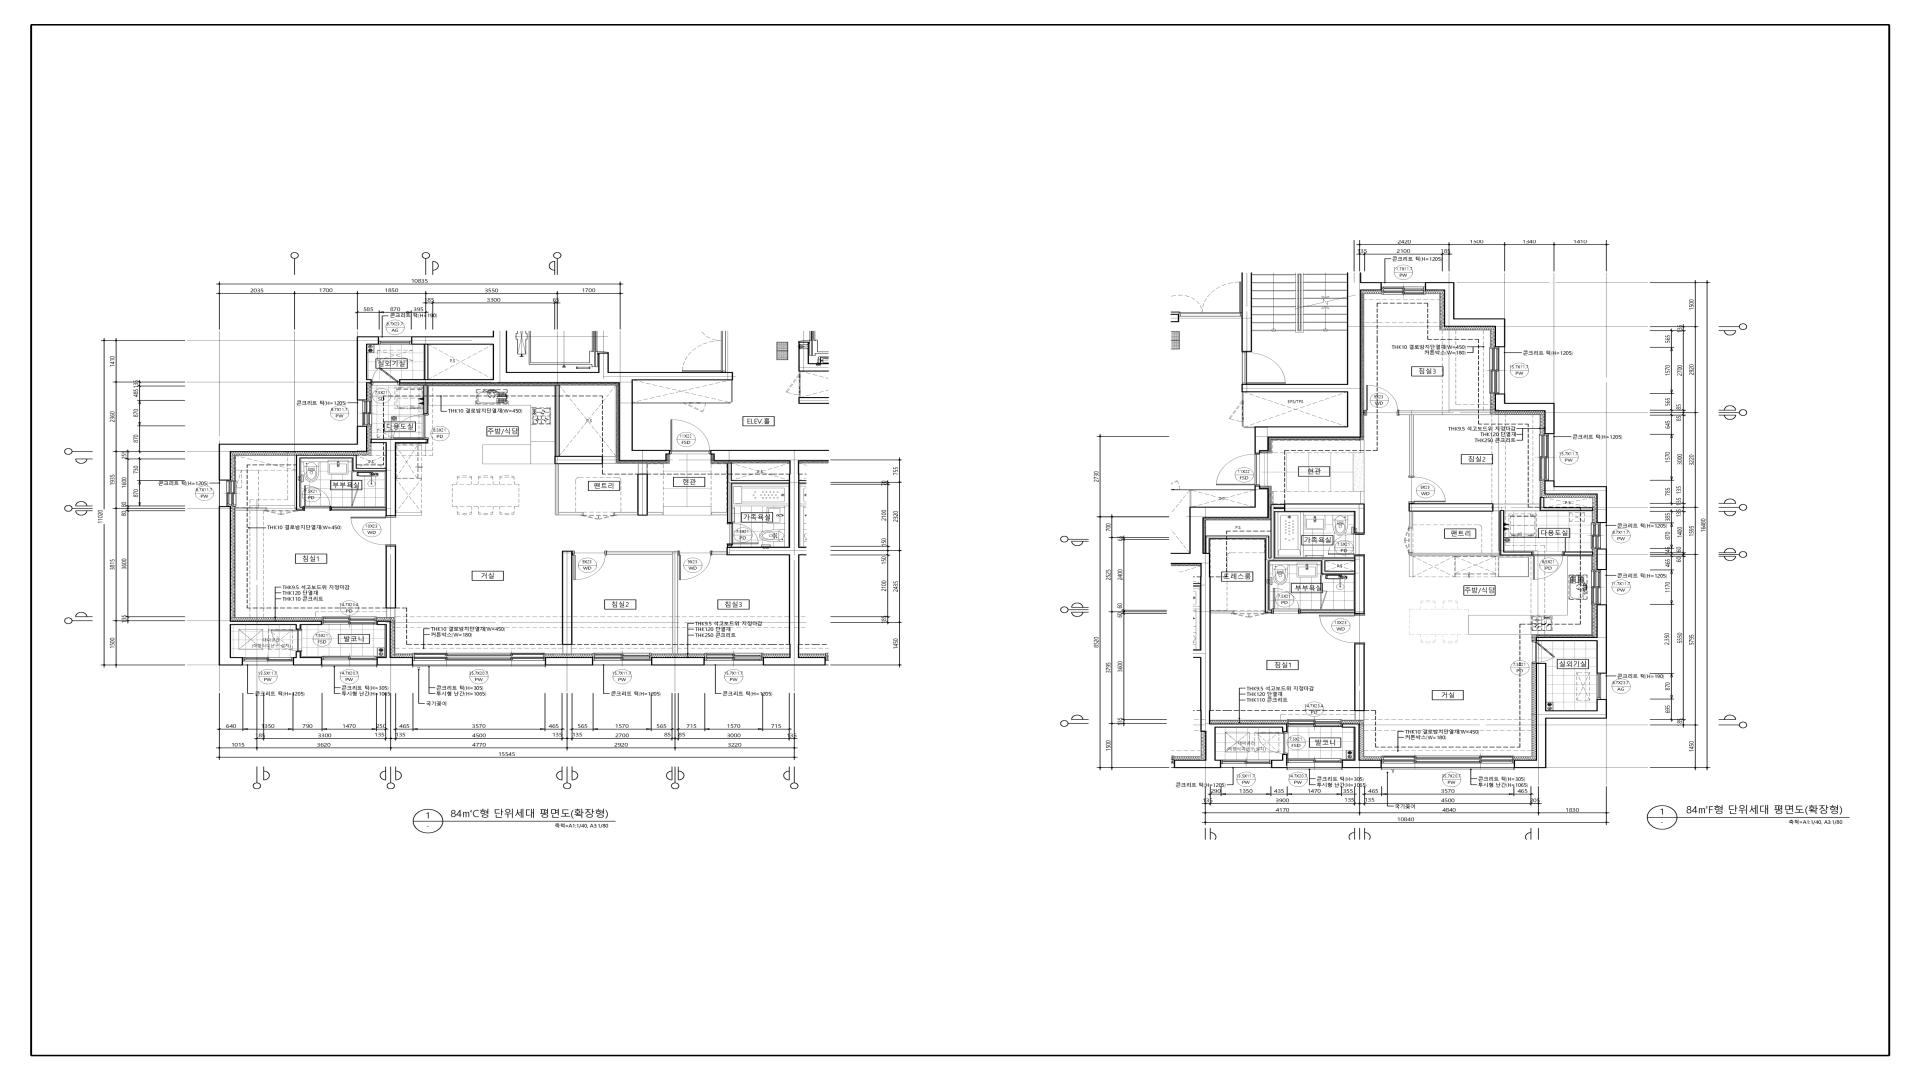door: (1179, 282, 1242, 316), (682, 331, 725, 372), (670, 419, 711, 454), (1242, 352, 1286, 384), (1216, 454, 1259, 485), (351, 516, 396, 546), (1319, 615, 1365, 644), (1365, 385, 1399, 415), (1408, 476, 1445, 504), (678, 551, 712, 580), (572, 551, 607, 580), (1532, 551, 1564, 580), (393, 414, 429, 439), (1328, 534, 1365, 555), (1271, 588, 1300, 615), (269, 629, 301, 651), (727, 522, 758, 545), (303, 485, 331, 510), (1257, 732, 1287, 754), (1532, 641, 1555, 663), (1229, 401, 1244, 422), (583, 512, 620, 520), (786, 375, 800, 394), (1403, 527, 1414, 553), (1233, 611, 1265, 618), (266, 508, 297, 516), (352, 472, 359, 506), (684, 402, 705, 413), (1320, 591, 1328, 609), (1171, 480, 1180, 491)
wall: (400, 336, 733, 462), (1189, 485, 1287, 769), (1241, 273, 1382, 454), (711, 450, 800, 666), (219, 506, 323, 666), (1205, 504, 1354, 613), (295, 439, 429, 516), (1514, 663, 1607, 769), (554, 385, 616, 516), (219, 426, 368, 480), (607, 551, 678, 653), (1399, 410, 1490, 476), (1425, 282, 1506, 347), (1536, 605, 1607, 674), (1300, 555, 1365, 615), (1284, 492, 1365, 534), (1408, 504, 1540, 527), (1544, 480, 1607, 524), (1495, 394, 1555, 434), (1410, 553, 1499, 578), (620, 464, 663, 516), (1342, 724, 1382, 769), (376, 621, 413, 666), (1499, 510, 1532, 556), (357, 336, 378, 401), (1180, 489, 1254, 506), (562, 551, 572, 654), (798, 342, 829, 372), (1242, 273, 1253, 352), (1354, 644, 1365, 720), (1540, 497, 1593, 512), (385, 546, 396, 617), (705, 381, 732, 404), (651, 657, 705, 666), (545, 657, 593, 666), (293, 651, 322, 666), (1271, 754, 1287, 769), (1597, 549, 1607, 570), (799, 397, 829, 404), (1564, 551, 1593, 555), (423, 385, 427, 414), (236, 508, 266, 510), (1242, 422, 1254, 429), (633, 402, 684, 404), (711, 512, 727, 516), (1171, 314, 1179, 322), (1211, 611, 1233, 613), (712, 551, 727, 555), (1361, 440, 1365, 452), (1242, 393, 1244, 401), (1364, 410, 1365, 415), (799, 372, 800, 375), (799, 394, 800, 397)
window: (1382, 756, 1514, 770), (413, 653, 545, 667), (705, 653, 764, 666), (593, 653, 651, 666), (1539, 434, 1555, 480), (1490, 347, 1505, 394), (1287, 758, 1342, 770), (322, 657, 376, 667), (1592, 570, 1607, 605), (1382, 282, 1425, 294), (243, 657, 293, 666), (219, 480, 236, 506), (322, 617, 377, 625), (1287, 720, 1342, 728), (1590, 524, 1607, 549), (1221, 760, 1271, 767), (357, 401, 372, 426), (378, 335, 411, 344), (1597, 674, 1607, 699)
